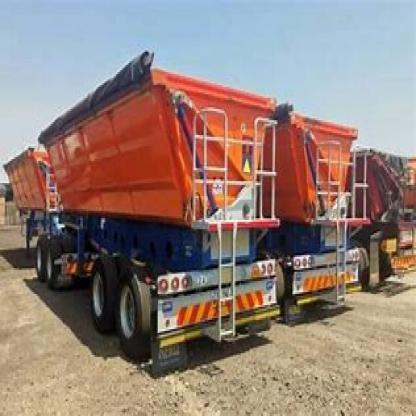dump_truck: (1, 50, 284, 368), (276, 90, 362, 333), (360, 139, 414, 294)
